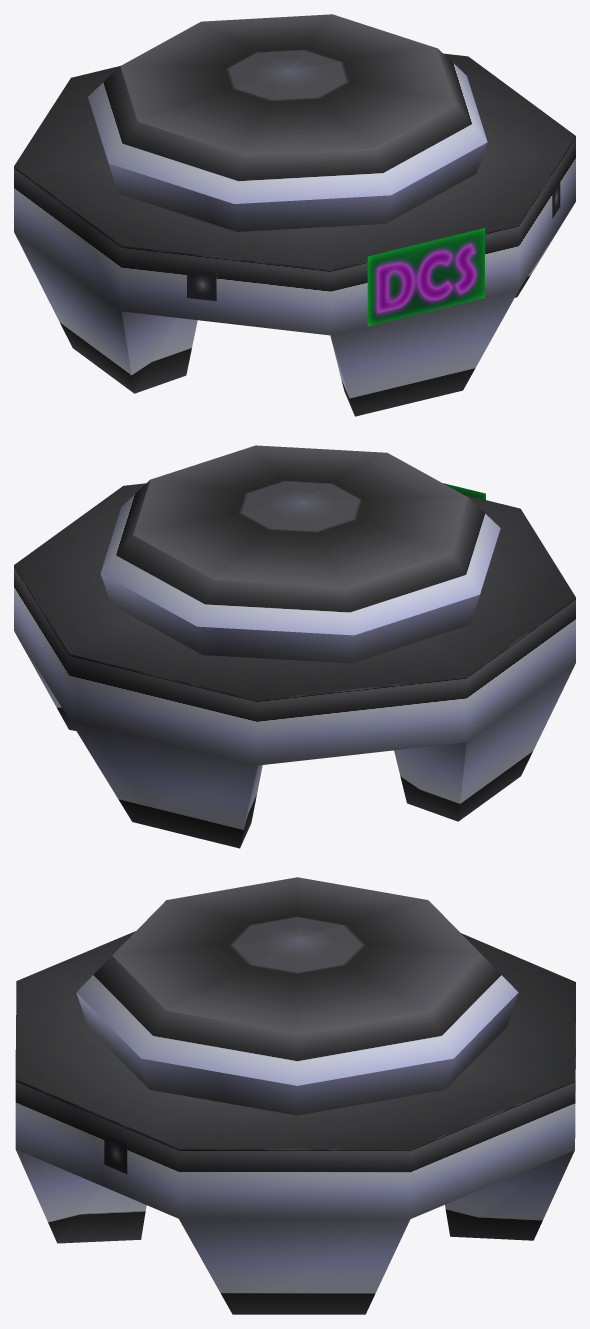
File: gun_towncannon_base.DAE
3 renders of one model, top to bottom at view 1: azimuth 30°, elevation 25°; view 2: azimuth 150°, elevation 25°; view 3: azimuth 270°, elevation 25°, orthographic. The views are drawn at different scales.
Parts seen in each view (by area): view 1: Base; view 2: Base; view 3: Base.
Boxes of the visible parts, box(x1,y1,x2,y2) form: Base: box(14, 14, 575, 416); Base: box(14, 445, 575, 848); Base: box(15, 877, 575, 1314).
Size of the model in its own units: 16.98 by 9.43 by 17.03.
